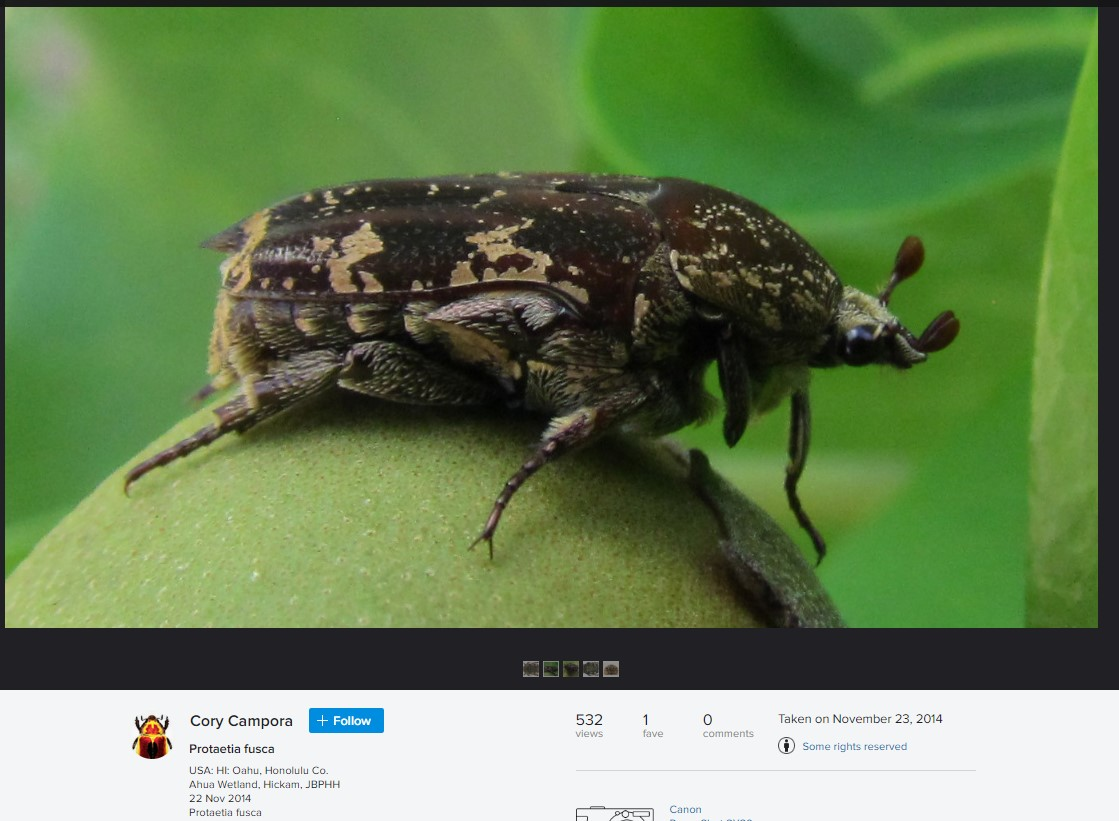Protaetia_fusca: (117, 161, 965, 567)
